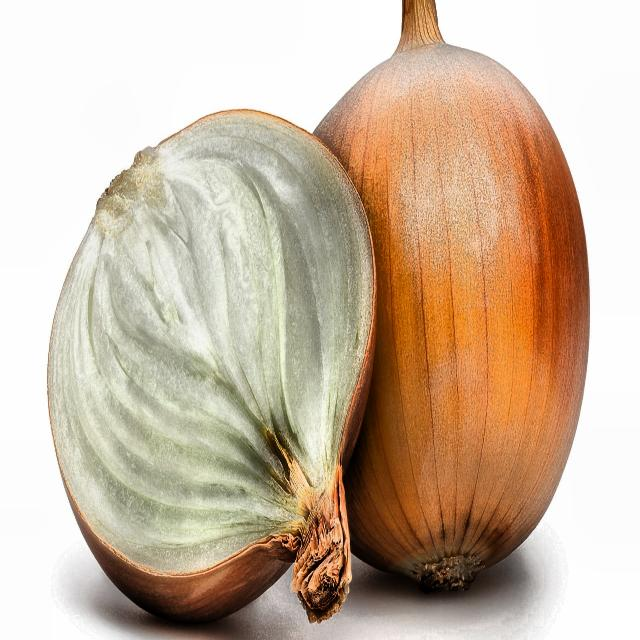onion: (22, 16, 596, 628)
